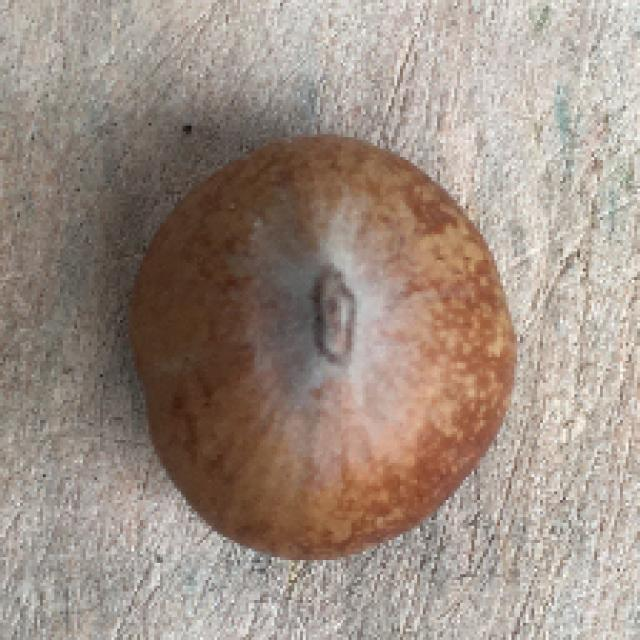qualityHazelnut: (112, 132, 521, 562)
